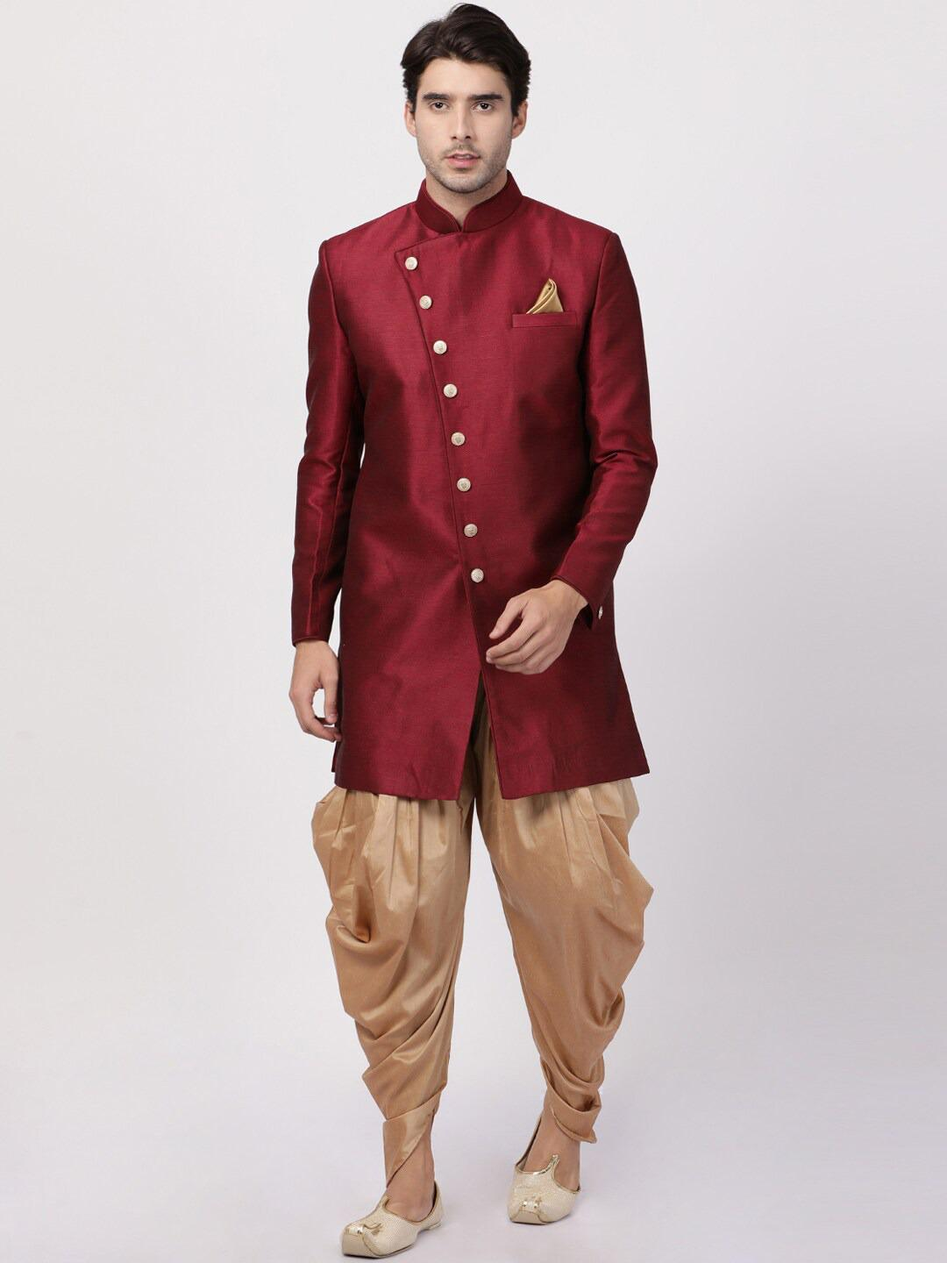Plain Sherwani: (284, 171, 661, 798)
